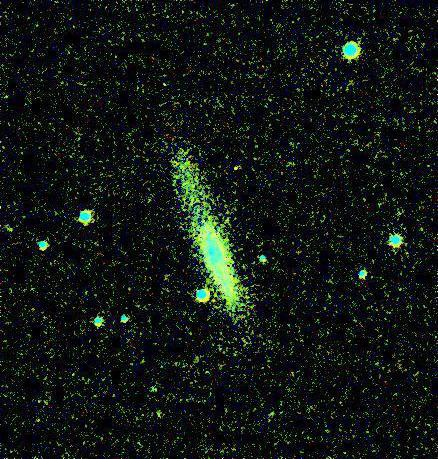star: (255, 401, 285, 431)
